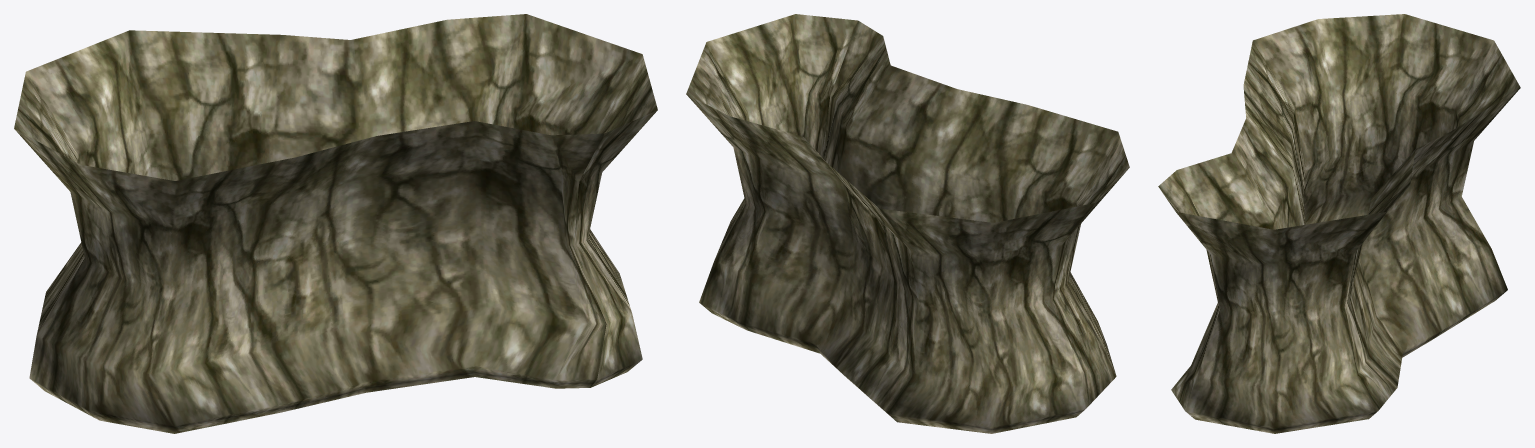
The model's file is CB_NEWPLAYSURFACE_CB_PLAYSURFACE49.fbx.
3 renders of one model, left to right at view 1: azimuth 30°, elevation 25°; view 2: azimuth 150°, elevation 25°; view 3: azimuth 270°, elevation 25°, orthographic. The views are drawn at different scales.
Visible parts, largest first — view 1: CB_NEWPLAYSURFACE_CB_PLAYSURFACE49; view 2: CB_NEWPLAYSURFACE_CB_PLAYSURFACE49; view 3: CB_NEWPLAYSURFACE_CB_PLAYSURFACE49.
Part boxes in pixels (bbox=[...]): CB_NEWPLAYSURFACE_CB_PLAYSURFACE49: bbox=[14, 14, 657, 433]; CB_NEWPLAYSURFACE_CB_PLAYSURFACE49: bbox=[686, 14, 1129, 433]; CB_NEWPLAYSURFACE_CB_PLAYSURFACE49: bbox=[1158, 14, 1520, 433].
Size of the model in its own units: 142763 by 66374 by 101388.
2 materials, 2 textured.
